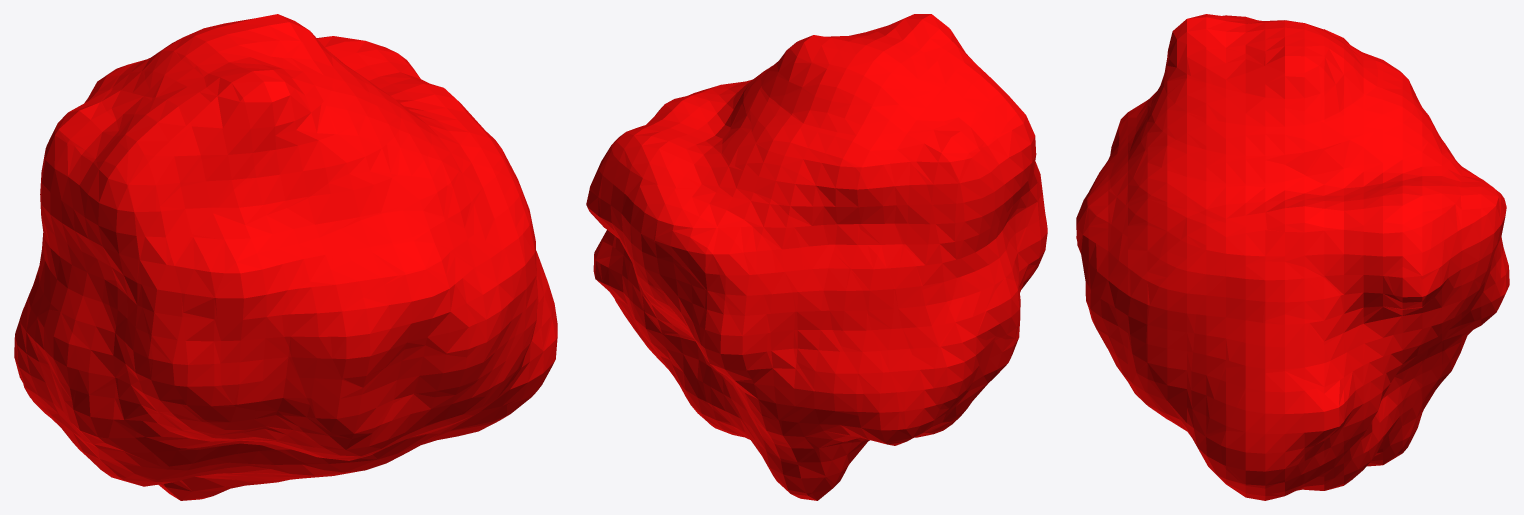
File: bioH_coarse.dae
3 views of the same model, side by side, from view 1: azimuth 30°, elevation 25°; view 2: azimuth 150°, elevation 25°; view 3: azimuth 270°, elevation 25° (orthographic). The views are drawn at different scales.
Visible parts, largest first — view 1: bioH; view 2: bioH; view 3: bioH.
Boxes of the visible parts, x1,y1,x2,y2 form: bioH: (14, 14, 557, 500); bioH: (586, 14, 1047, 500); bioH: (1076, 14, 1509, 500).
Bounding box in the file's own units: 50.33 × 50.27 × 45.84.
